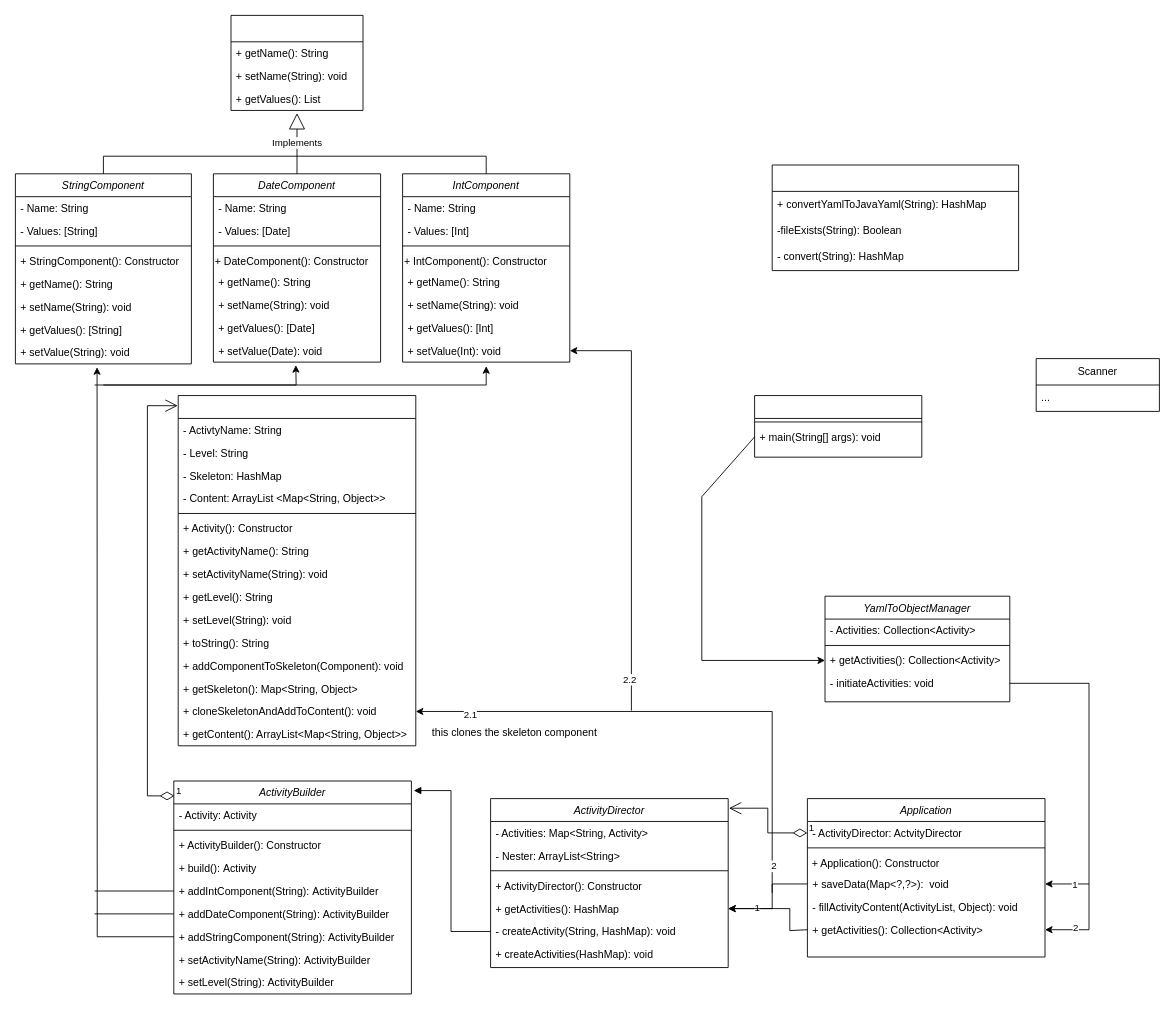
The diagram is 1175 pixels wide and 1012 high, and some of its shapes have lost their labels. Each missing label, with the box of its shape:
<<Interface>> Component: (230, 15, 363, 110)
Actrivty: (177, 395, 416, 746)
MetricAnalyzerApplication: (754, 395, 922, 457)
YamlReader: (771, 164, 1019, 271)
